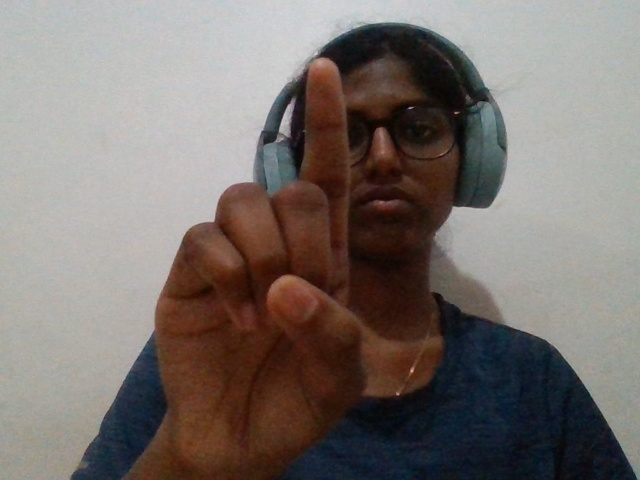D: (103, 48, 403, 464)
